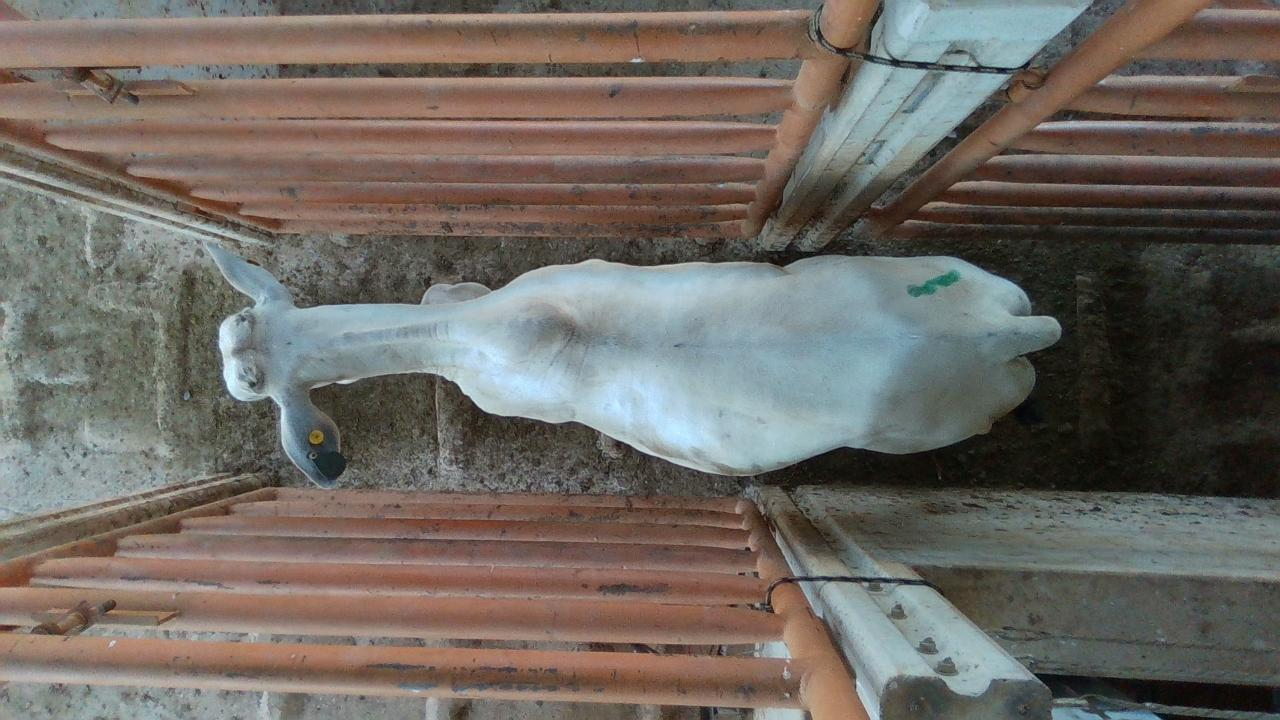cattle: (200, 239, 1063, 486)
